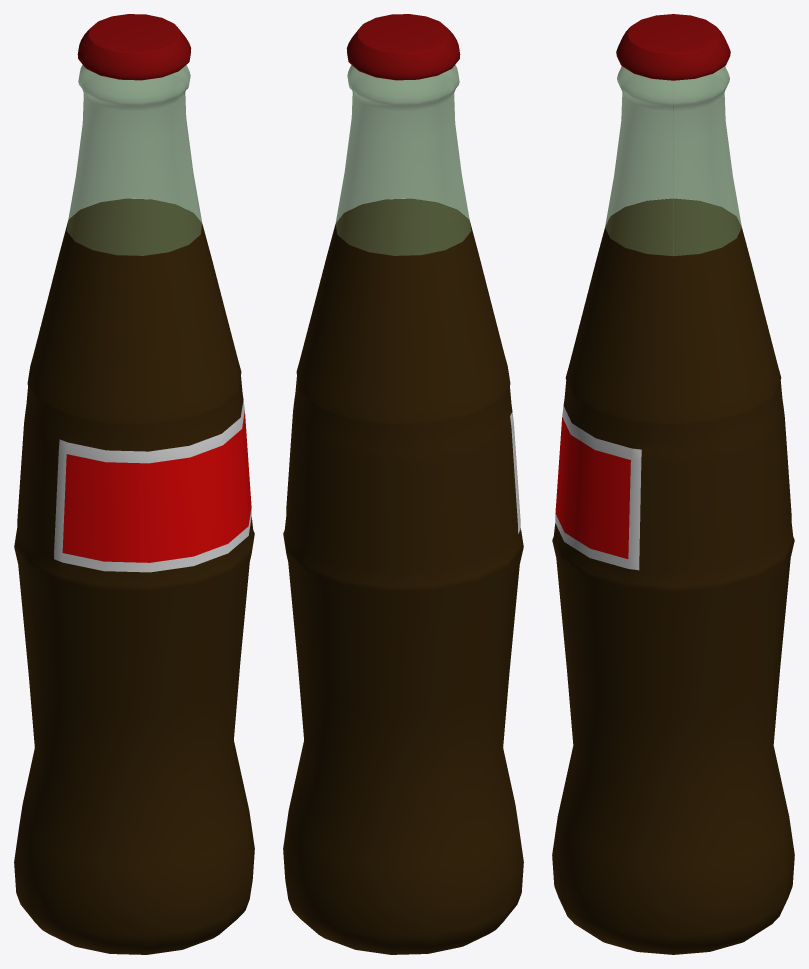
File: Bottle_02.fbx
3 renders of one model, left to right at view 1: azimuth 30°, elevation 25°; view 2: azimuth 150°, elevation 25°; view 3: azimuth 270°, elevation 25°, orthographic.
Parts seen in each view (by area): view 1: Bottle, Bottle_transparent, Cap; view 2: Bottle, Bottle_transparent, Cap; view 3: Bottle, Bottle_transparent, Cap.
Boxes of the visible parts, box(x1,y1,x2,y2) form: Bottle: box(14, 198, 254, 954); Bottle_transparent: box(66, 64, 202, 255); Cap: box(77, 14, 191, 80); Bottle: box(283, 198, 523, 954); Bottle_transparent: box(335, 64, 471, 255); Cap: box(346, 14, 460, 80); Bottle: box(552, 198, 794, 954); Bottle_transparent: box(605, 66, 741, 256); Cap: box(616, 14, 730, 80).
Bounding box in the file's own units: 2.47 × 9.92 × 2.47.
